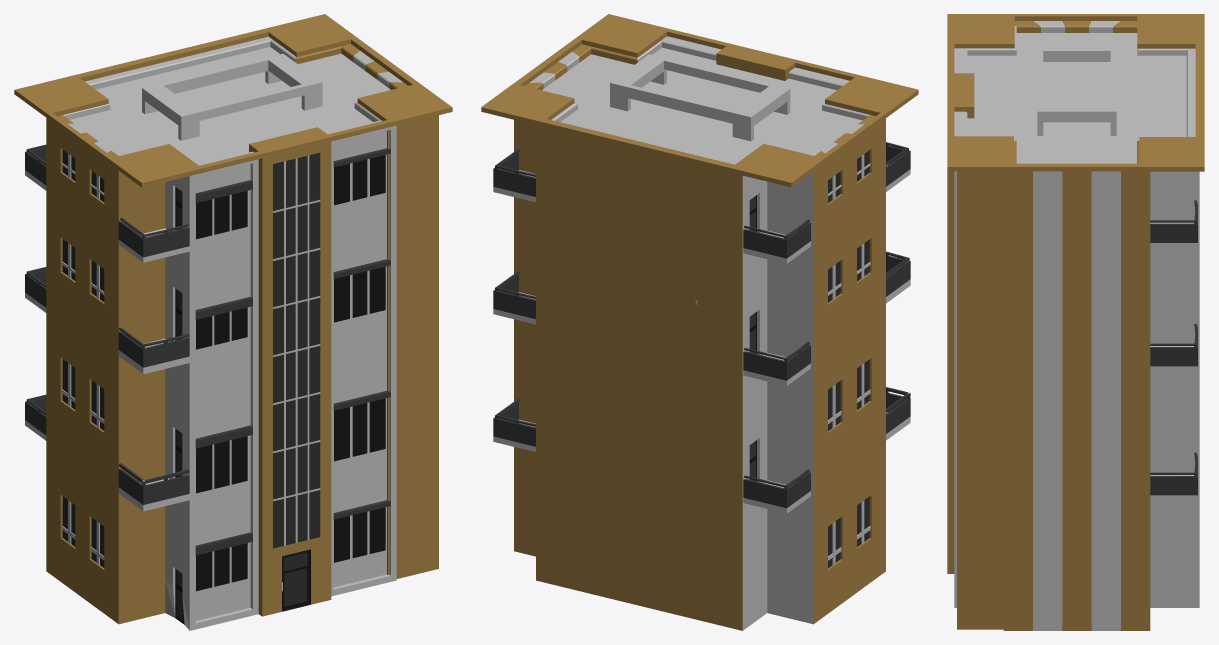
The model's file is apt-0.glb.
3 views of the same model, side by side, from view 1: azimuth 30°, elevation 25°; view 2: azimuth 150°, elevation 25°; view 3: azimuth 270°, elevation 25° (orthographic).
Size of the model in its own units: 2.07 by 3.03 by 1.47.
